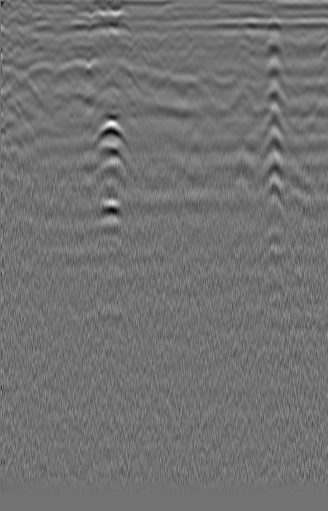가스: (87, 143, 131, 186)
상수: (1, 13, 31, 39)
오수: (260, 36, 287, 62)
우수: (126, 33, 154, 63)
